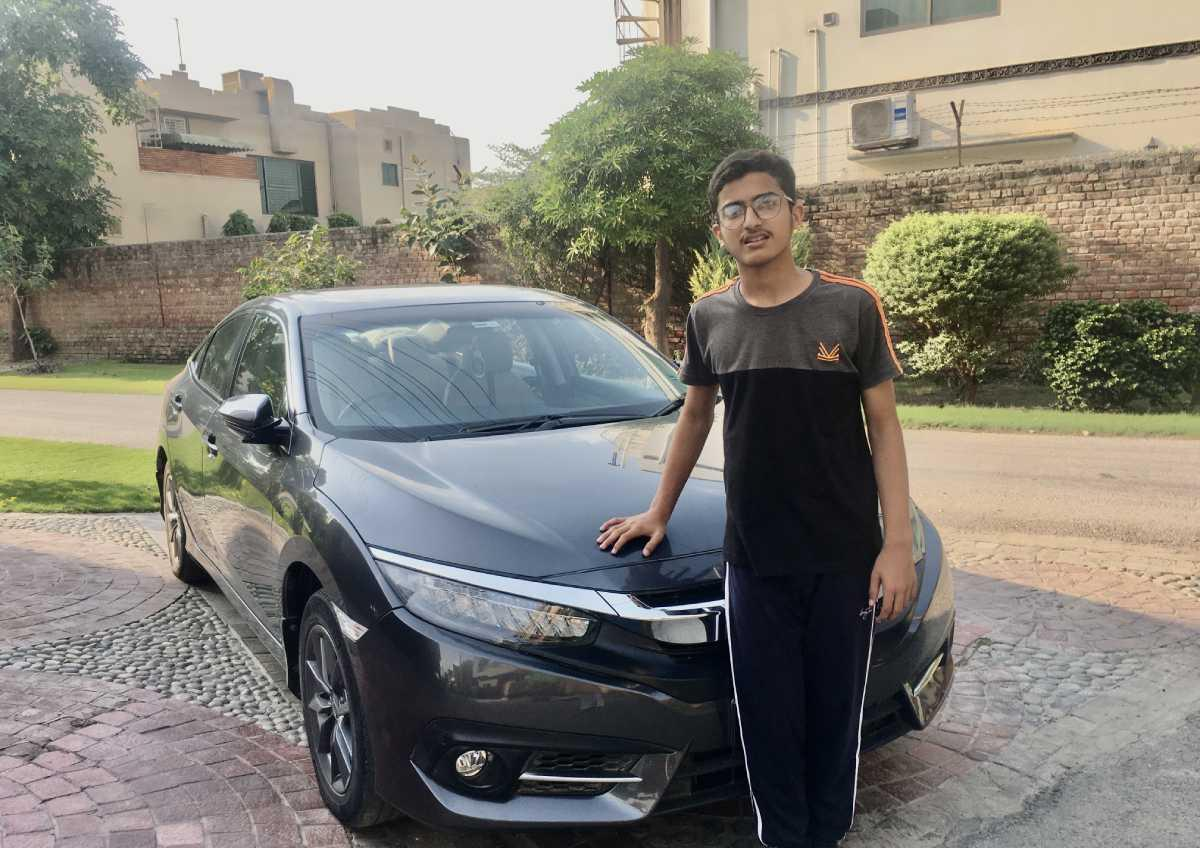windshield: (296, 303, 683, 446)
